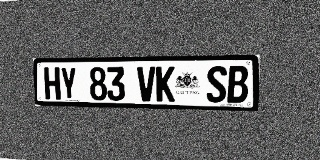3: (107, 67, 125, 101)
8: (89, 67, 107, 101)
B: (227, 66, 248, 103)
H: (44, 67, 61, 100)
K: (156, 66, 175, 102)
S: (206, 66, 227, 103)
V: (137, 66, 156, 101)
Y: (60, 67, 77, 100)
